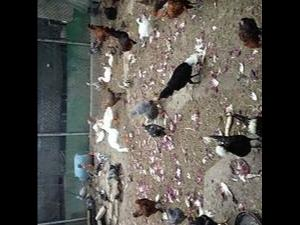hen: (156, 51, 202, 100)
